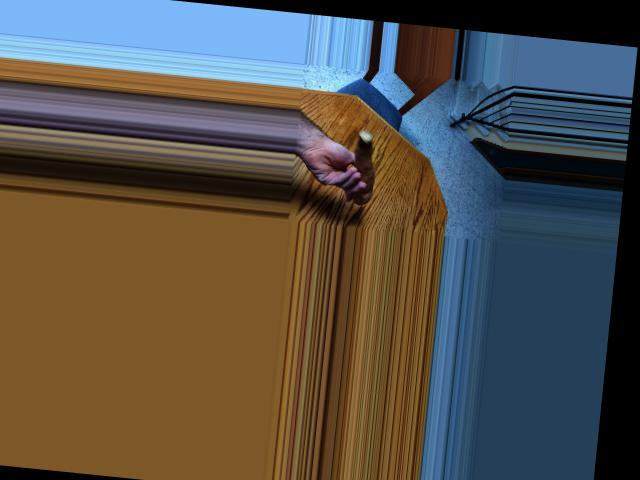sweet_potato: (343, 128, 379, 203)
